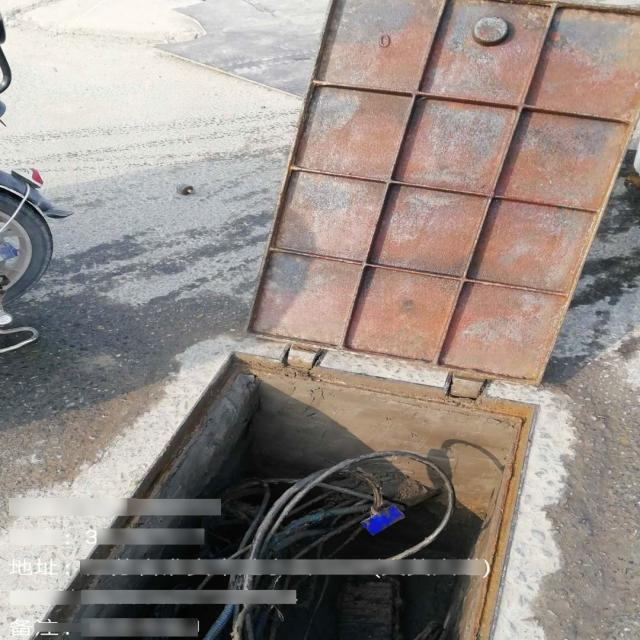Lose: (8, 3, 640, 630)
